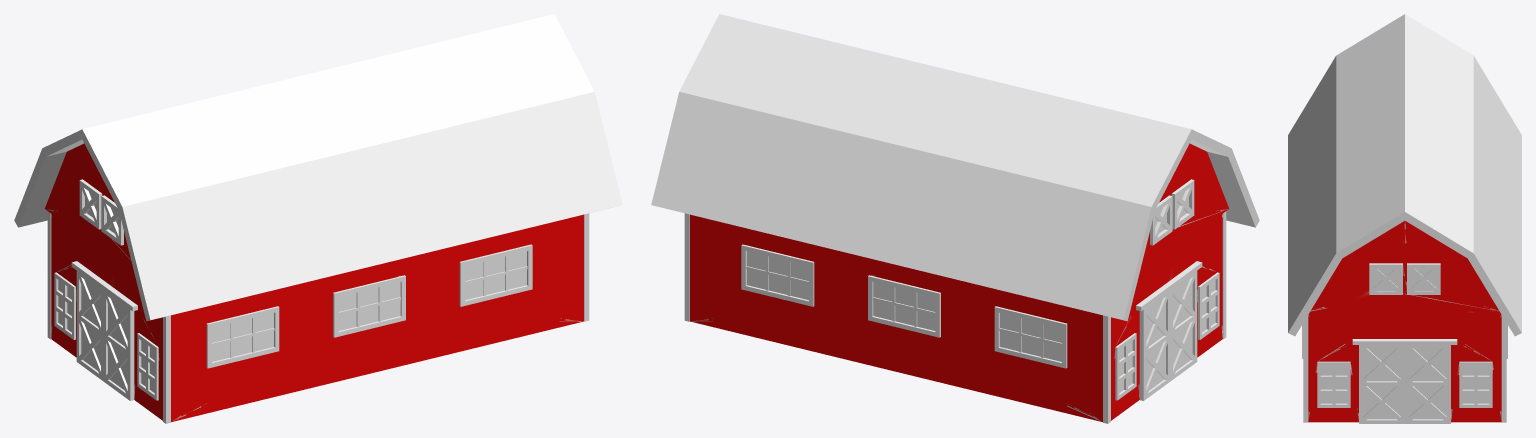
3 renders of one model, left to right at view 1: azimuth 30°, elevation 25°; view 2: azimuth 150°, elevation 25°; view 3: azimuth 270°, elevation 25°, orthographic. The views are drawn at different scales.
Visible parts, largest first — view 1: Mesh_0.001; view 2: Mesh_0.001; view 3: Mesh_0.001.
Boxes of the visible parts, x1,y1,x2,y2 form: Mesh_0.001: [14, 14, 622, 423]; Mesh_0.001: [651, 14, 1259, 423]; Mesh_0.001: [1288, 14, 1521, 423].
Bounding box in the file's own units: 11.2 × 5.83 × 5.6.
1 material, 1 textured.
